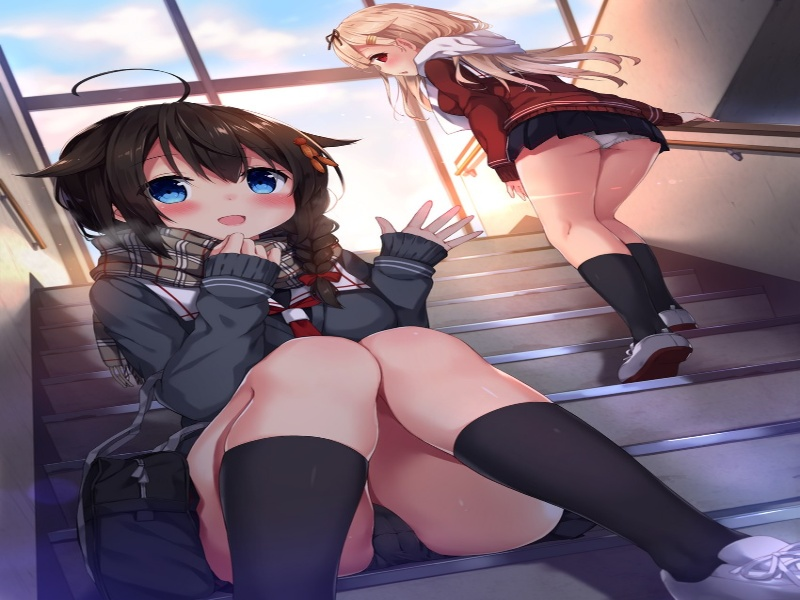person: (116, 122, 315, 249), (356, 35, 423, 85)
